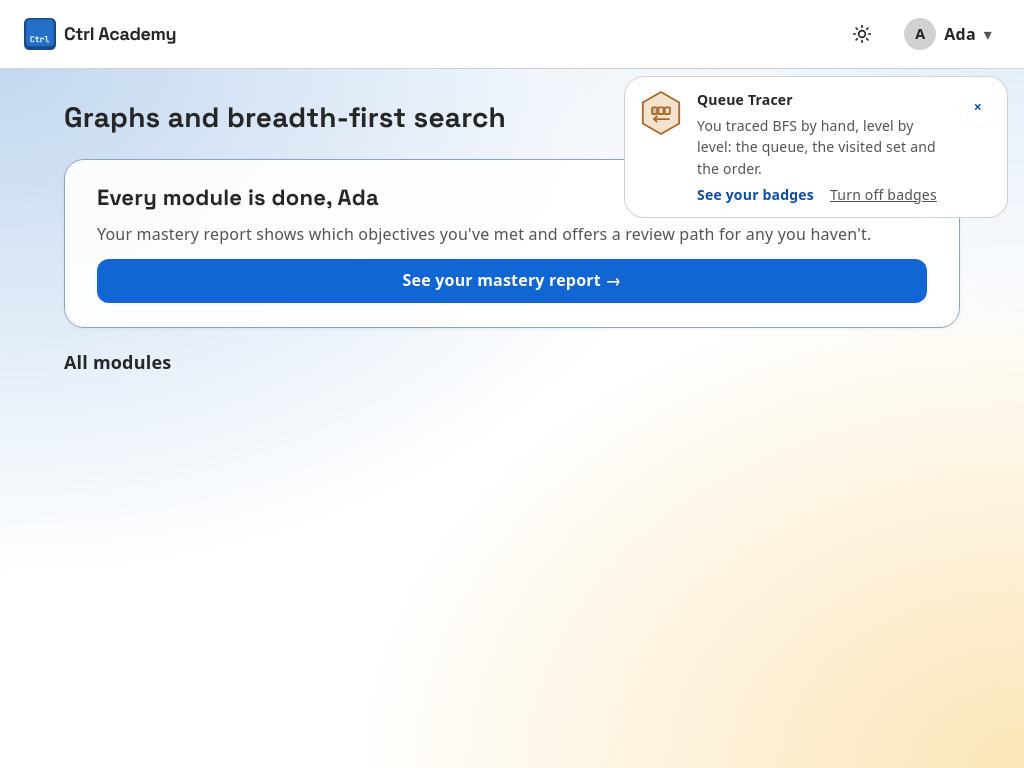
Test case: Badge announcements › announces a new badge once, then tells the server it was seen
The image size is (1024, 768).
expect the text "Queue Tracer" is shown: met, box [697,90,793,109]
Step 1. Click the button named "Dismiss Queue Tracer" → (978, 107), box [961,89,995,125]
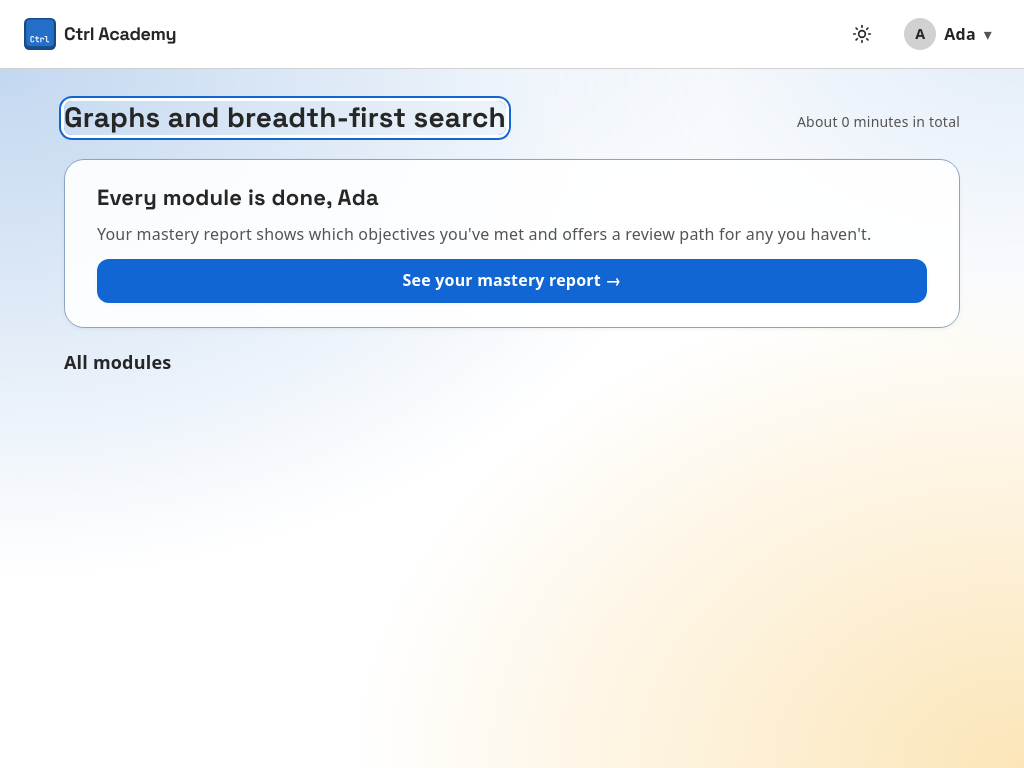
expect the text "Queue Tracer" is gone: met
